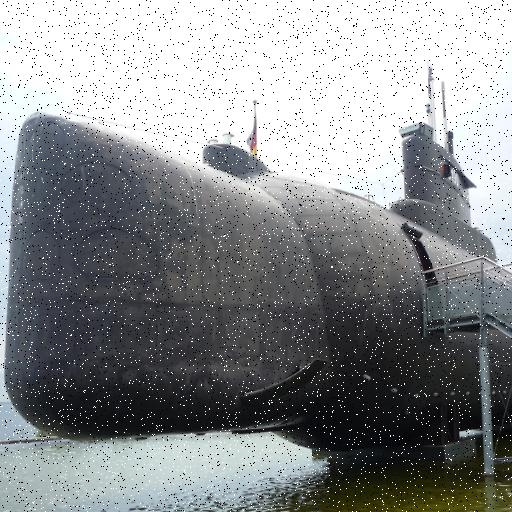submarine: (15, 86, 512, 463)
